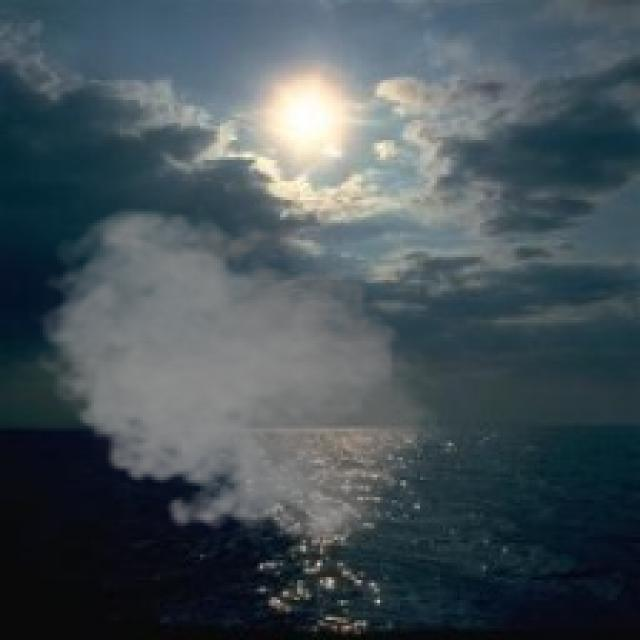smoke: (29, 203, 454, 551)
